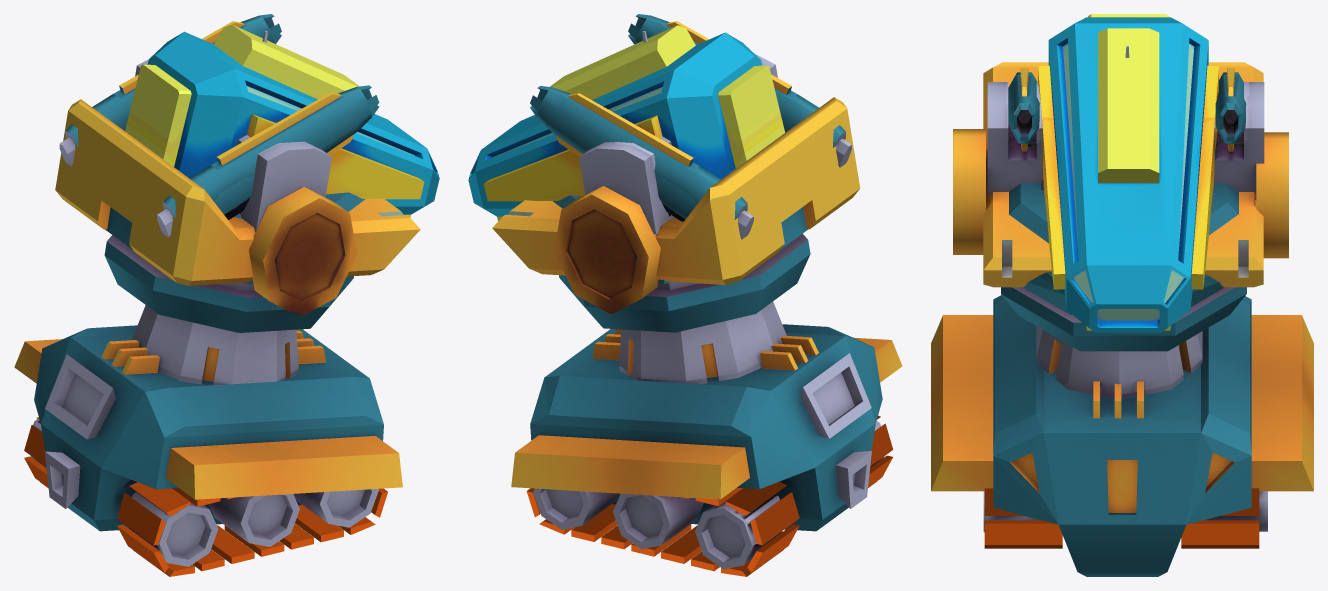
The model's file is Player_moving_upgrade3.obj.
The picture shows the model from 3 angles, left to right: view 1: azimuth 30°, elevation 25°; view 2: azimuth 150°, elevation 25°; view 3: azimuth 270°, elevation 25°; orthographic projection. The views are drawn at different scales.
Parts seen in each view (by area): view 1: Object015, Object014, Box009, Box017, Box016; view 2: Object015, Object014, Box009, Box016, Box017; view 3: Object015, Object014, Box017, Box016, Box009.
Boxes of the visible parts, x1,y1,x2,y2 form: Object015: [14, 24, 439, 531]; Object014: [59, 14, 379, 237]; Box009: [31, 419, 378, 566]; Box017: [117, 482, 387, 576]; Box016: [24, 417, 48, 488]; Object015: [468, 25, 902, 531]; Object014: [530, 14, 851, 239]; Box009: [533, 421, 884, 569]; Box016: [526, 481, 799, 576]; Box017: [868, 415, 893, 487]; Object015: [931, 14, 1313, 576]; Object014: [1008, 68, 1246, 151]; Box017: [984, 488, 1062, 548]; Box016: [1181, 488, 1259, 548]; Box009: [983, 491, 1267, 532].
Size of the model in its own units: 70.38 by 88.9 by 59.78.
5 materials, 3 textured.
